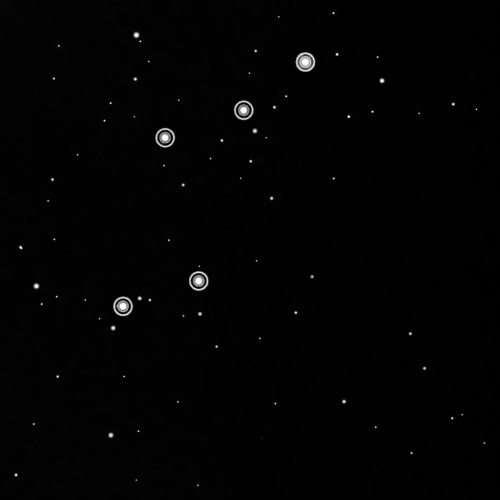lyra: (111, 48, 318, 321)
